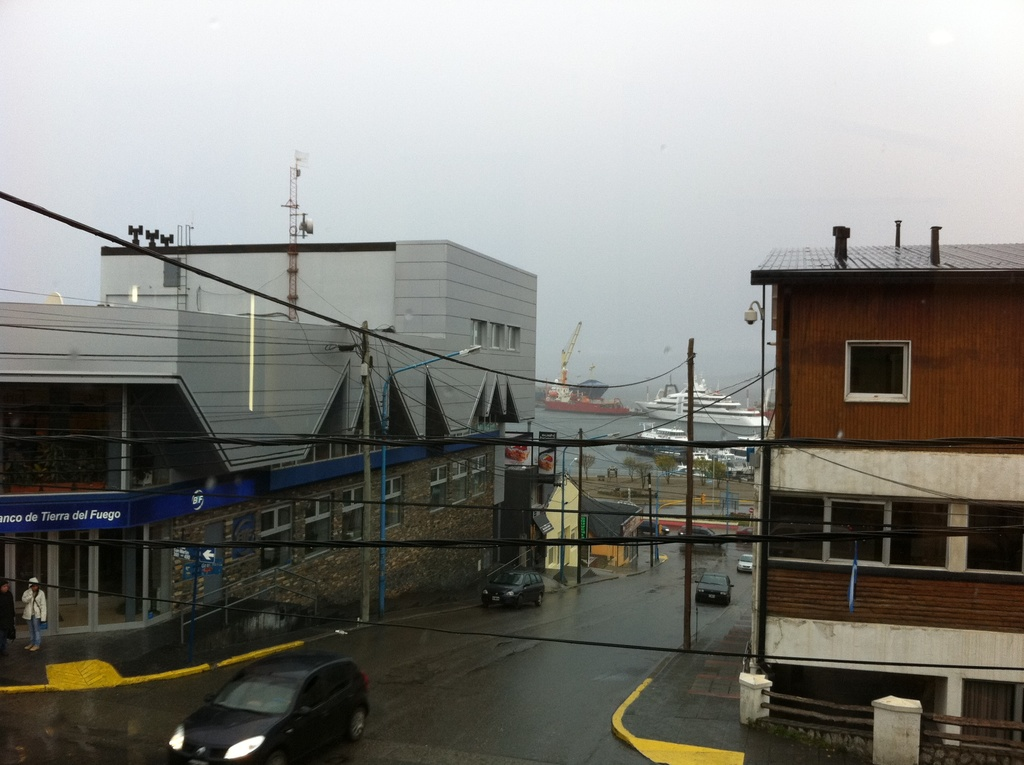Car: (164, 649, 371, 764), (481, 566, 541, 608), (695, 571, 732, 607), (689, 524, 723, 549), (740, 551, 753, 572)
